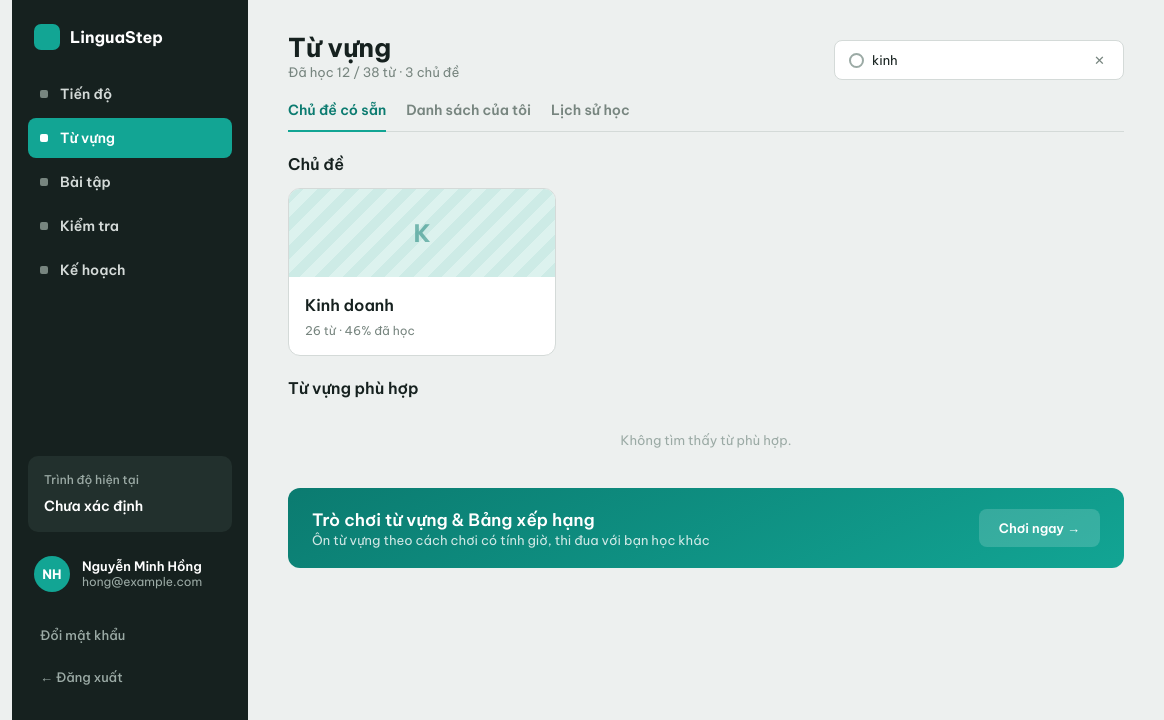
topics page › clears the search with its own button and puts the cursor back in the box
Expected: the link "K Kinh doanh 26 từ · 46% đã học" is shown, [288,188,556,356]
Click the button named "Xóa tìm kiếm" at (1100, 60), box [1090,54,1109,66]
(page scrolled)
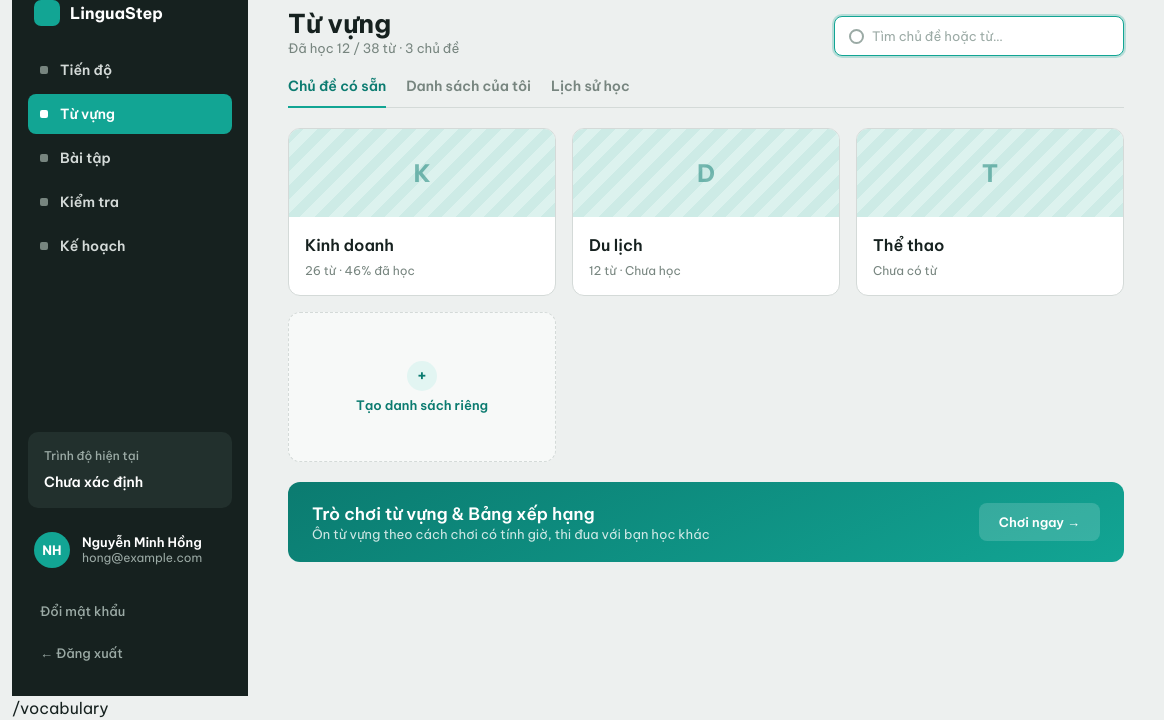
Expected: the search field labelled "Tìm chủ đề hoặc từ" is empty, [872,28,1109,44]
Expected: the link "D Du lịch 12 từ · Chưa học" is shown, [572,128,840,296]
Expected: the text with test id "location" reads "/vocabulary", [12,698,109,718]
